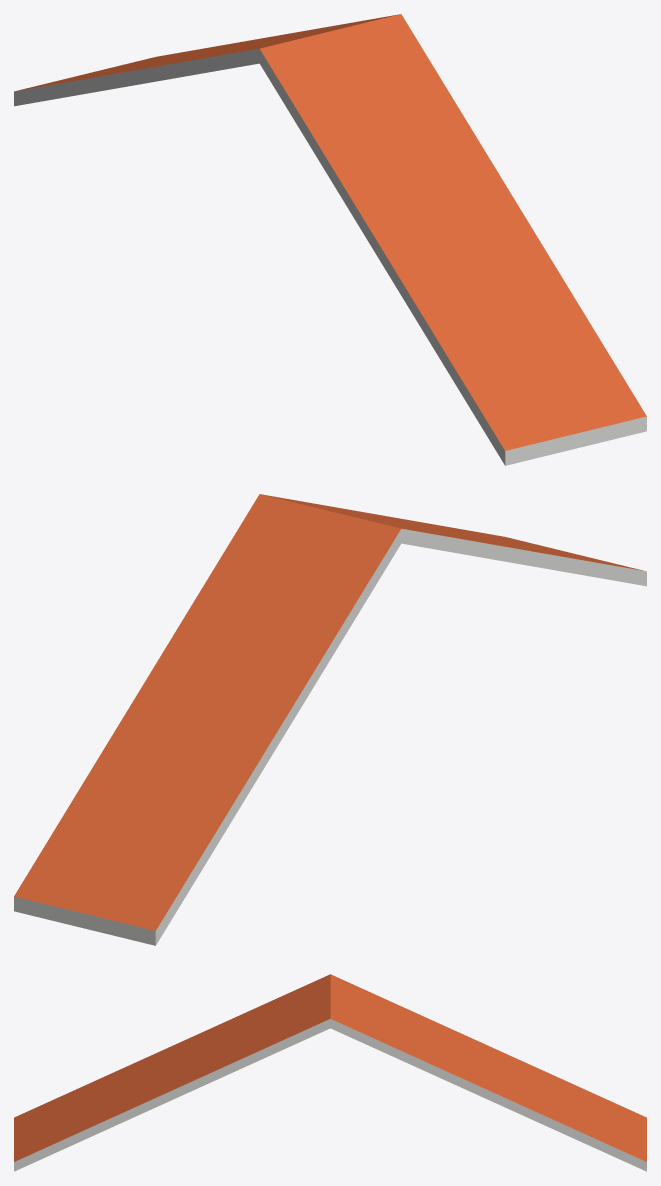
Rendered from telhado_duas_aguas_v6_i50_1m.glb.
3 views of the same model, one above another, from view 1: azimuth 30°, elevation 25°; view 2: azimuth 150°, elevation 25°; view 3: azimuth 270°, elevation 25° (orthographic). The views are drawn at different scales.
Visible parts, largest first — view 1: telhado_duas_aguas_v6_i50_1m; view 2: telhado_duas_aguas_v6_i50_1m; view 3: telhado_duas_aguas_v6_i50_1m.
Part boxes in pixels (x1,y1,x2,y2): telhado_duas_aguas_v6_i50_1m: (14,14,646,465); telhado_duas_aguas_v6_i50_1m: (14,494,646,945); telhado_duas_aguas_v6_i50_1m: (14,974,646,1171).
Size of the model in its own units: 1 by 1.6 by 6.
